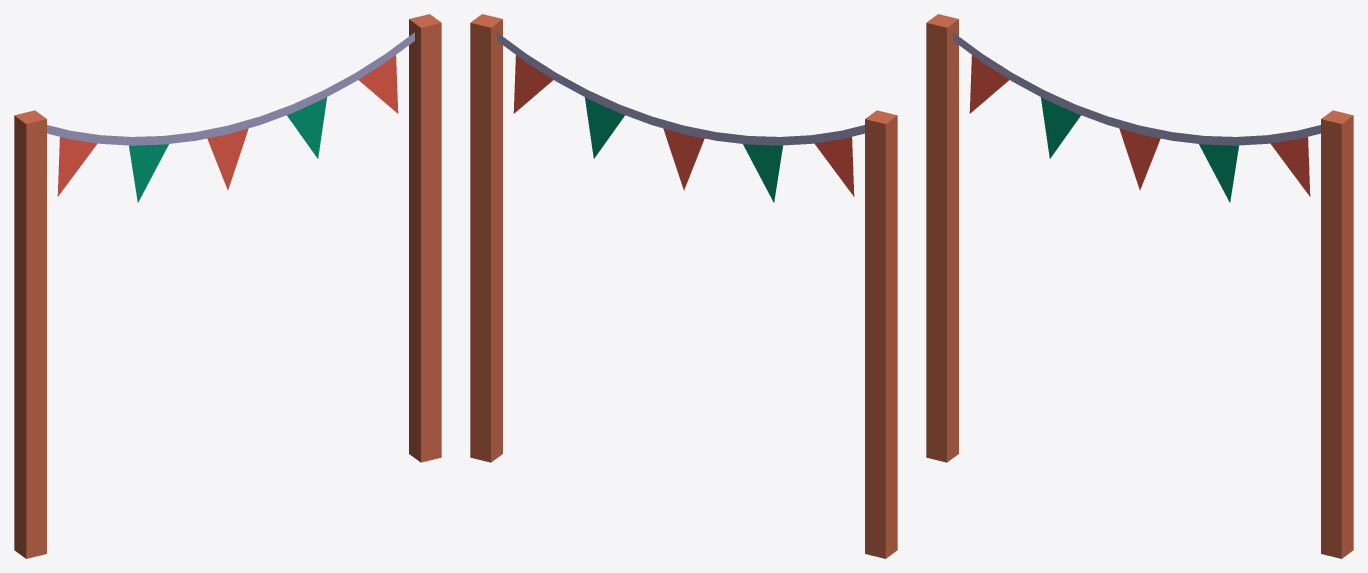
File: decoration.fbx
The picture shows the model from 3 angles, left to right: view 1: azimuth 30°, elevation 25°; view 2: azimuth 150°, elevation 25°; view 3: azimuth 330°, elevation 25°; orthographic projection.
Parts seen in each view (by area): view 1: mergedBlocks; view 2: mergedBlocks; view 3: mergedBlocks.
Part boxes in pixels (x1,y1,x2,y2): mergedBlocks: [14, 14, 441, 558]; mergedBlocks: [470, 14, 897, 558]; mergedBlocks: [926, 14, 1353, 558].
Bounding box in the file's own units: 10 × 10 × 0.5.
